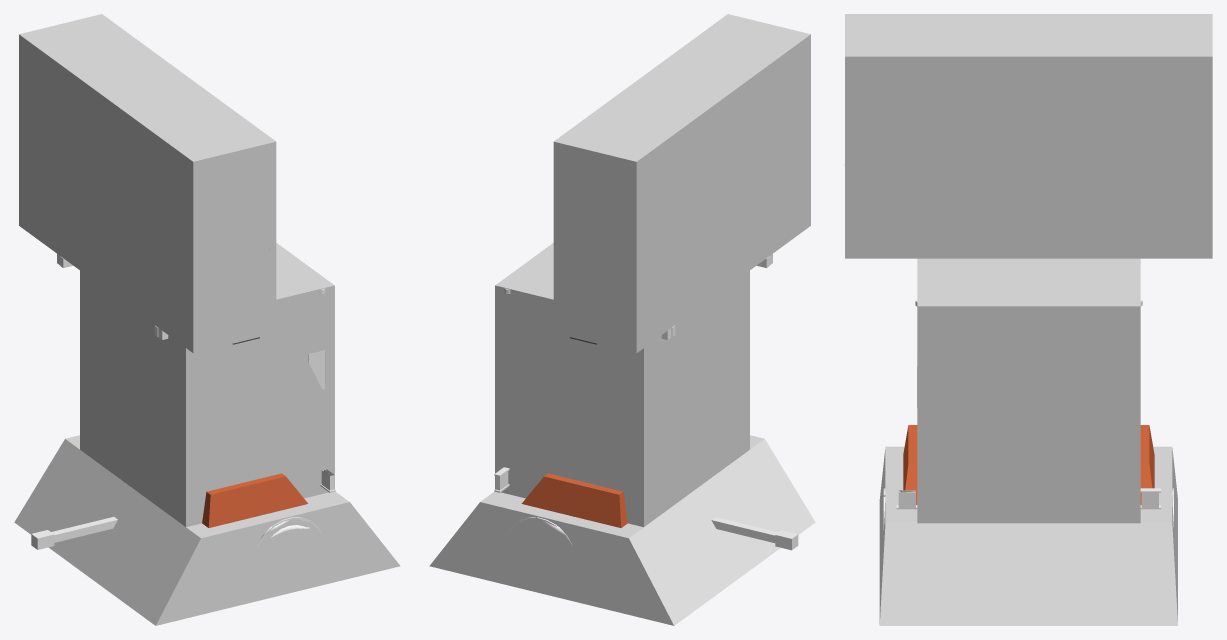
File: arrowboard_l.dae
3 renders of one model, left to right at view 1: azimuth 30°, elevation 25°; view 2: azimuth 150°, elevation 25°; view 3: azimuth 270°, elevation 25°, orthographic. The views are drawn at different scales.
Visible parts, largest first — view 1: Colmesh-1, arrowboard_L_a030, arrowboard_L_a200, arrowboard_L_a100; view 2: Colmesh-1, arrowboard_L_a030, arrowboard_L_a200; view 3: Colmesh-1, arrowboard_L_a030, arrowboard_L_a200.
Boxes of the visible parts, box(x1,y1,x2,y2) form: Colmesh-1: box(14, 14, 400, 625); arrowboard_L_a030: box(202, 337, 308, 527); arrowboard_L_a200: box(31, 254, 335, 549); arrowboard_L_a100: box(31, 469, 334, 549); Colmesh-1: box(429, 14, 815, 625); arrowboard_L_a030: box(521, 337, 627, 527); arrowboard_L_a200: box(494, 254, 798, 549); Colmesh-1: box(845, 14, 1212, 625); arrowboard_L_a030: box(844, 164, 1154, 504); arrowboard_L_a200: box(883, 299, 1173, 529).
Size of the model in its own units: 2.41 by 2.47 by 3.68.
